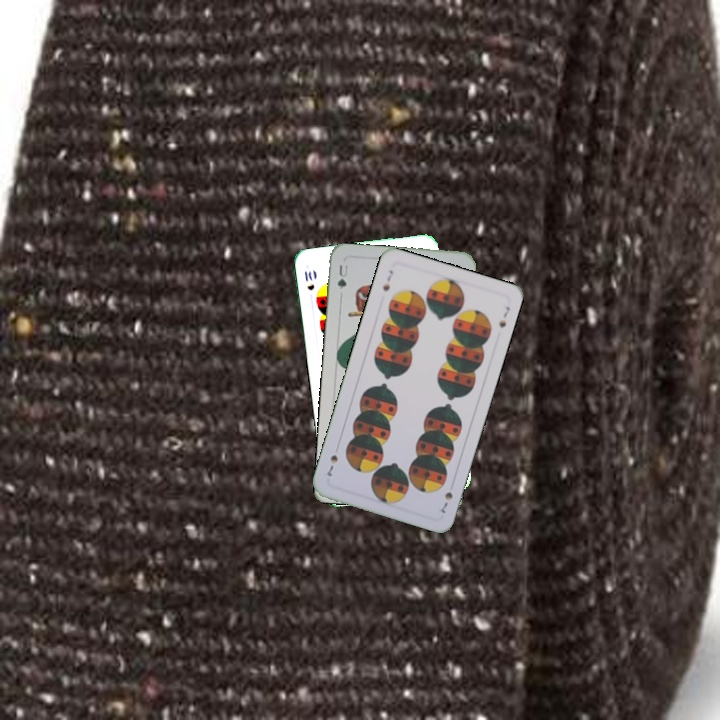GU: (333, 261, 350, 292)
S10: (301, 267, 317, 293)
S7: (437, 487, 456, 516), (378, 266, 396, 293)
